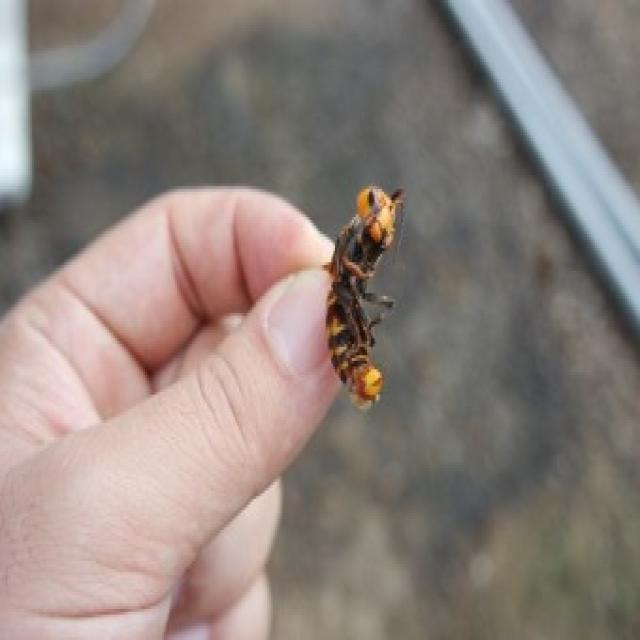Wasp: (303, 176, 420, 411)
